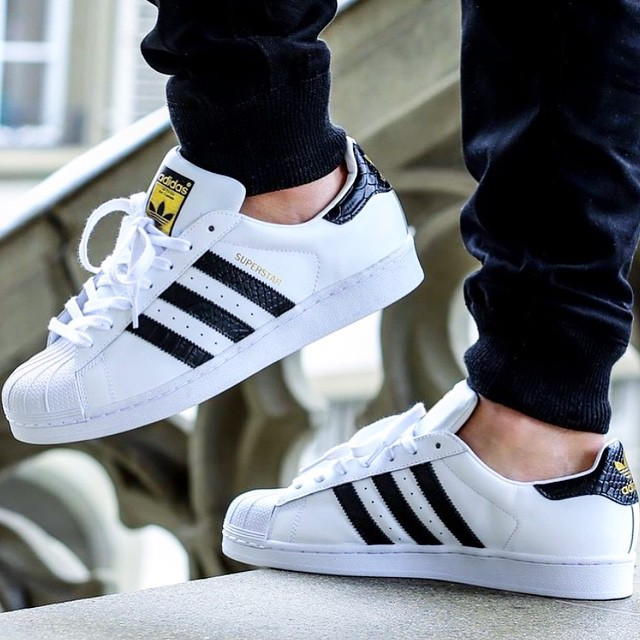sneaker: (1, 116, 445, 467), (184, 359, 640, 608)
